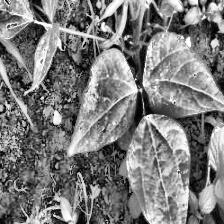ALS: (67, 48, 138, 156), (125, 115, 186, 224)
